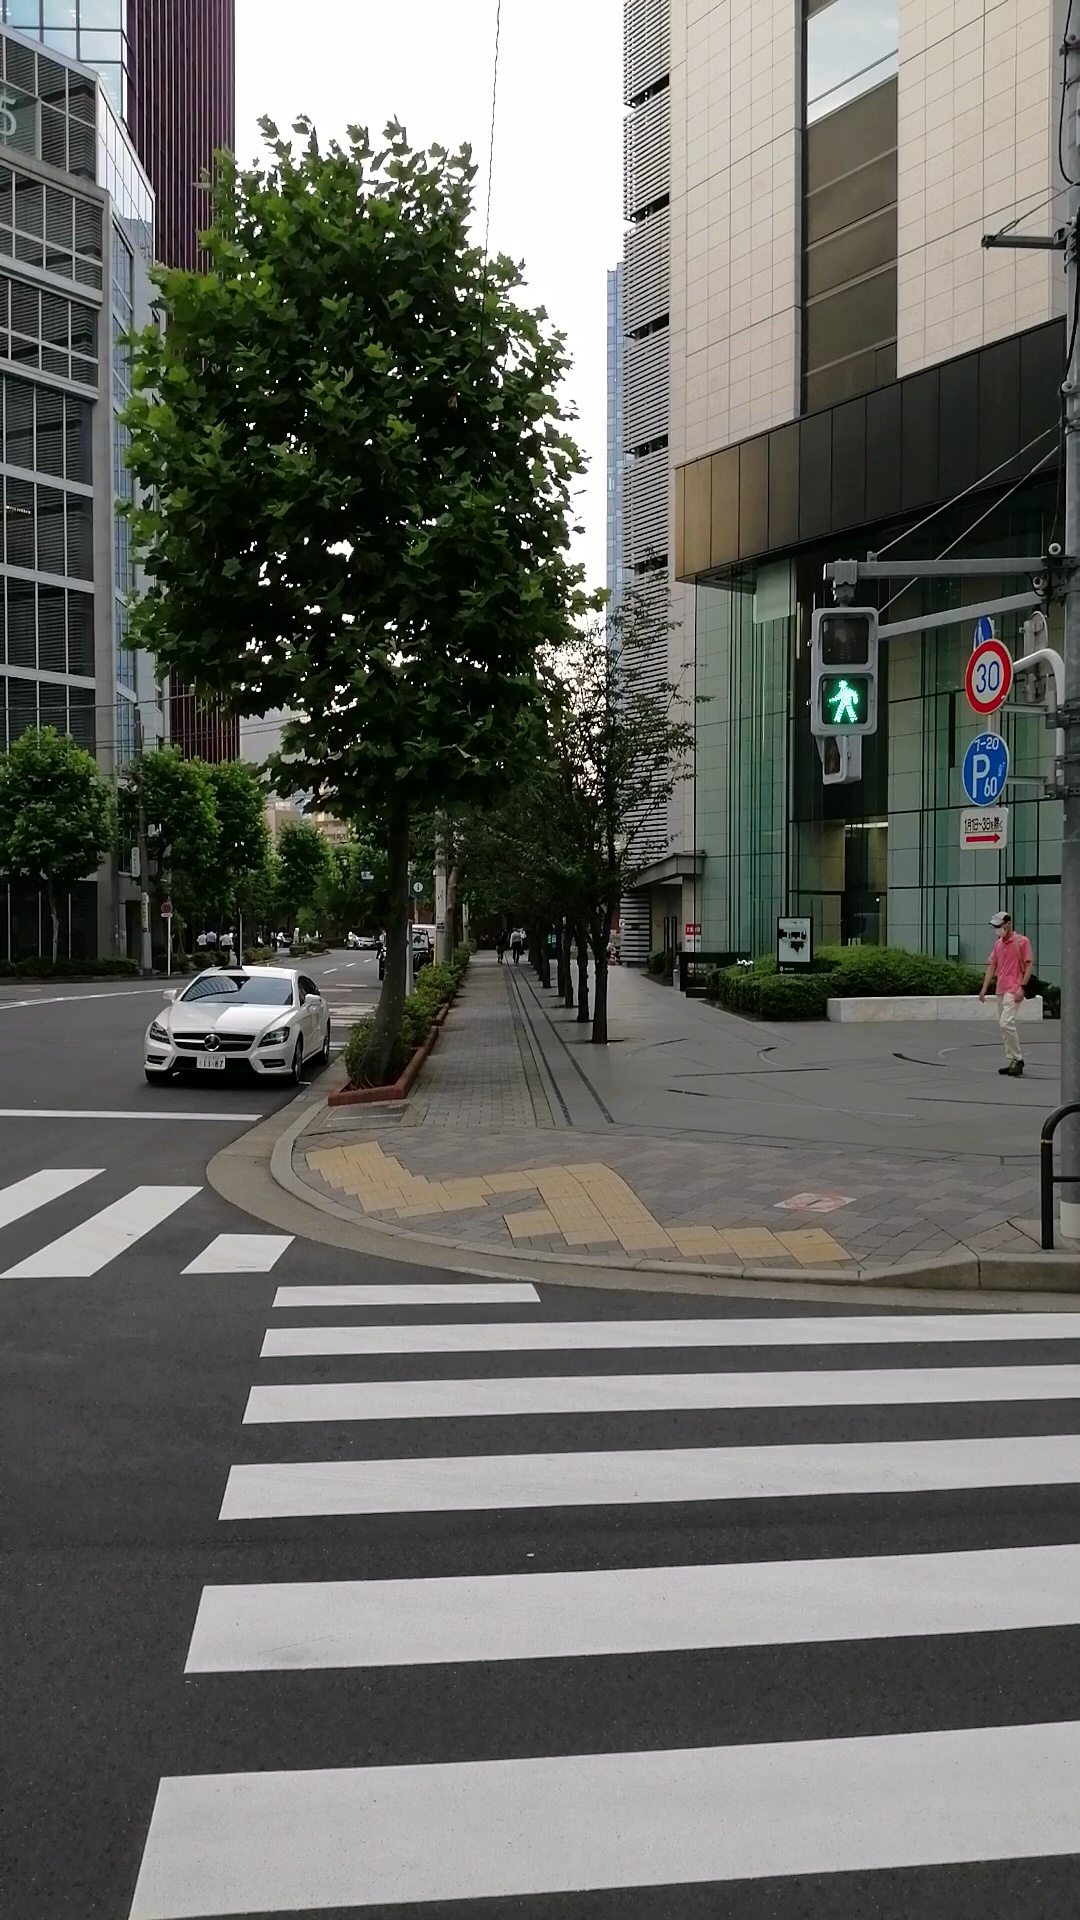green: (808, 607, 878, 738)
